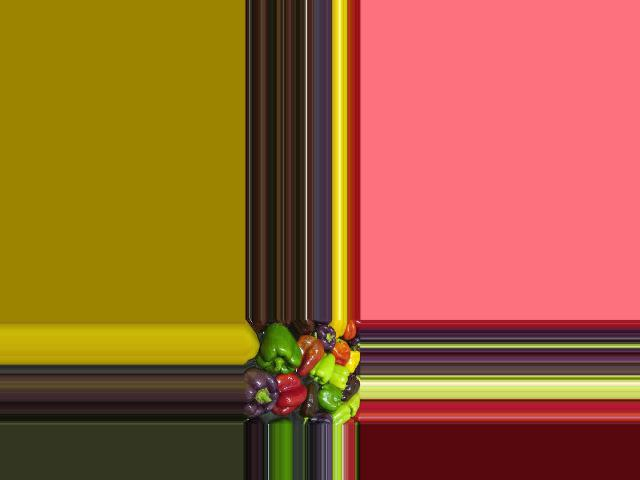bell_pepper: (315, 322, 340, 350)
